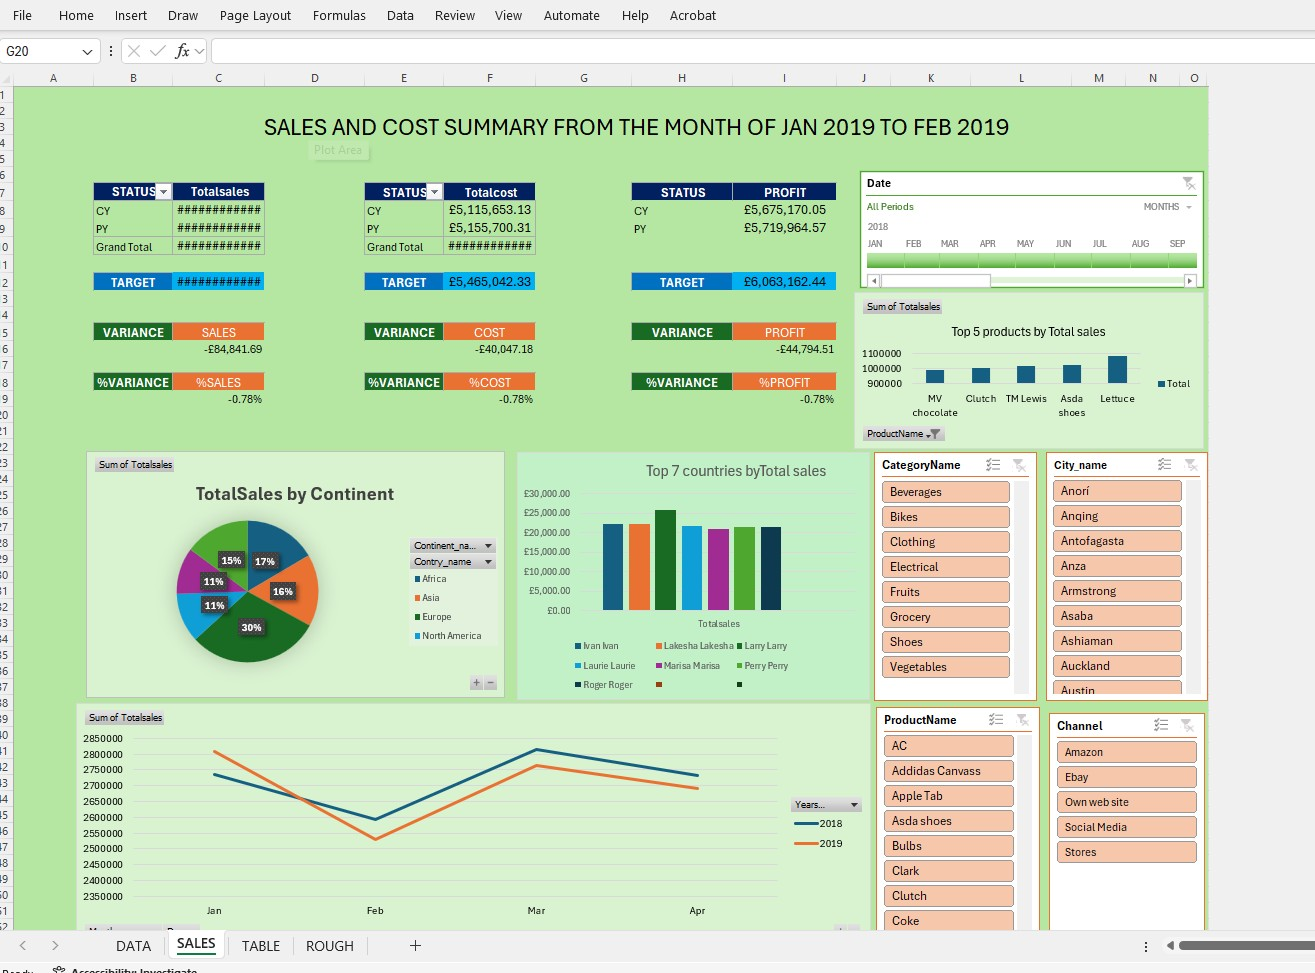

What the dashboard file says about the page in this screenshot:
{"tool":"powerbi","page":{"name":"SALES INSIGHT","canvas":[1280,720],"ordinal":1},"visuals":[{"type":"image","box":[10,0,126.7,106.7],"z":0},{"type":"textbox","box":[136.7,0,604.4,106.7],"z":1000},{"type":"slicer","fields":{"Values":["Calender.Date"]},"box":[755.6,0,448.9,106.7],"z":2000},{"type":"card","title":"TOTAL NUMBER","fields":{"Values":["MEASURE.Total number"]},"box":[117.8,117.8,174.4,108.9],"z":3000},{"type":"card","title":"CY SALES","fields":{"Values":["MEASURE.Total sales"]},"box":[300,117.8,174.4,108.9],"z":4000},{"type":"card","title":"CY COST","fields":{"Values":["MEASURE.Total cost"]},"box":[483.3,117.8,174.4,108.9],"z":5000},{"type":"card","title":"CY PROFIT","fields":{"Values":["MEASURE.Profit"]},"box":[668.9,117.8,174.4,108.9],"z":6000},{"type":"card","title":"PY SALES","fields":{"Values":["MEASURE.PY Sales"]},"box":[846.7,117.8,174.4,108.9],"z":7000},{"type":"card","title":"%VARIANCE","fields":{"Values":["MEASURE.%Variance"]},"box":[1030,117.8,174.4,108.9],"z":8000},{"type":"columnChart","title":"CY sales by Customers","fields":{"Category":["Order.Customers"],"Y":["MEASURE.Total sales"]},"box":[166.7,246.7,316.7,187.8],"z":9000},{"type":"pieChart","fields":{"Y":["MEASURE.Total sales"],"Category":["Order.Channel"]},"box":[504.4,246.7,308.9,196.7],"z":10000},{"type":"clusteredColumnChart","fields":{"Category":["Order.Continet"],"Y":["MEASURE.Total sales","MEASURE.PY Sales","MEASURE.%6 Target"]},"box":[846.7,254.4,357.8,188.9],"z":11000},{"type":"lineChart","fields":{"Y":["MEASURE.Total sales","MEASURE.PY Sales","MEASURE.%6 Target"],"Category":["Calender.Date.Variation.Date Hierarchy.Month"]},"box":[216.7,455.6,987.8,252.2],"z":12000},{"type":"slicer","fields":{"Values":["Order.CategoryName"]},"box":[10,443.3,195.6,131.1],"z":13000},{"type":"slicer","fields":{"Values":["Order.Country"]},"box":[10,582.2,195.6,131.1],"z":14000}]}

Visuals, with their boxes on the page's 1280x720 design canvas (x1, y1, x2, y2). These are canvas units, not pixel positions in the 1315x973 screenshot, which may show the page scaled, cropped or inside an application window:
image: 10 0 137 107
textbox: 137 0 741 107
slicer - Calender.Date: 756 0 1204 107
"TOTAL NUMBER" card: 118 118 292 227
"CY SALES" card: 300 118 474 227
"CY COST" card: 483 118 658 227
"CY PROFIT" card: 669 118 843 227
"PY SALES" card: 847 118 1021 227
"%VARIANCE" card: 1030 118 1204 227
"CY sales by Customers" columnChart: 167 247 483 434
pieChart - MEASURE.Total sales x Order.Channel: 504 247 813 443
clusteredColumnChart - Order.Continet x MEASURE.Total sales: 847 254 1204 443
lineChart - MEASURE.Total sales x MEASURE.PY Sales: 217 456 1204 708
slicer - Order.CategoryName: 10 443 206 574
slicer - Order.Country: 10 582 206 713
